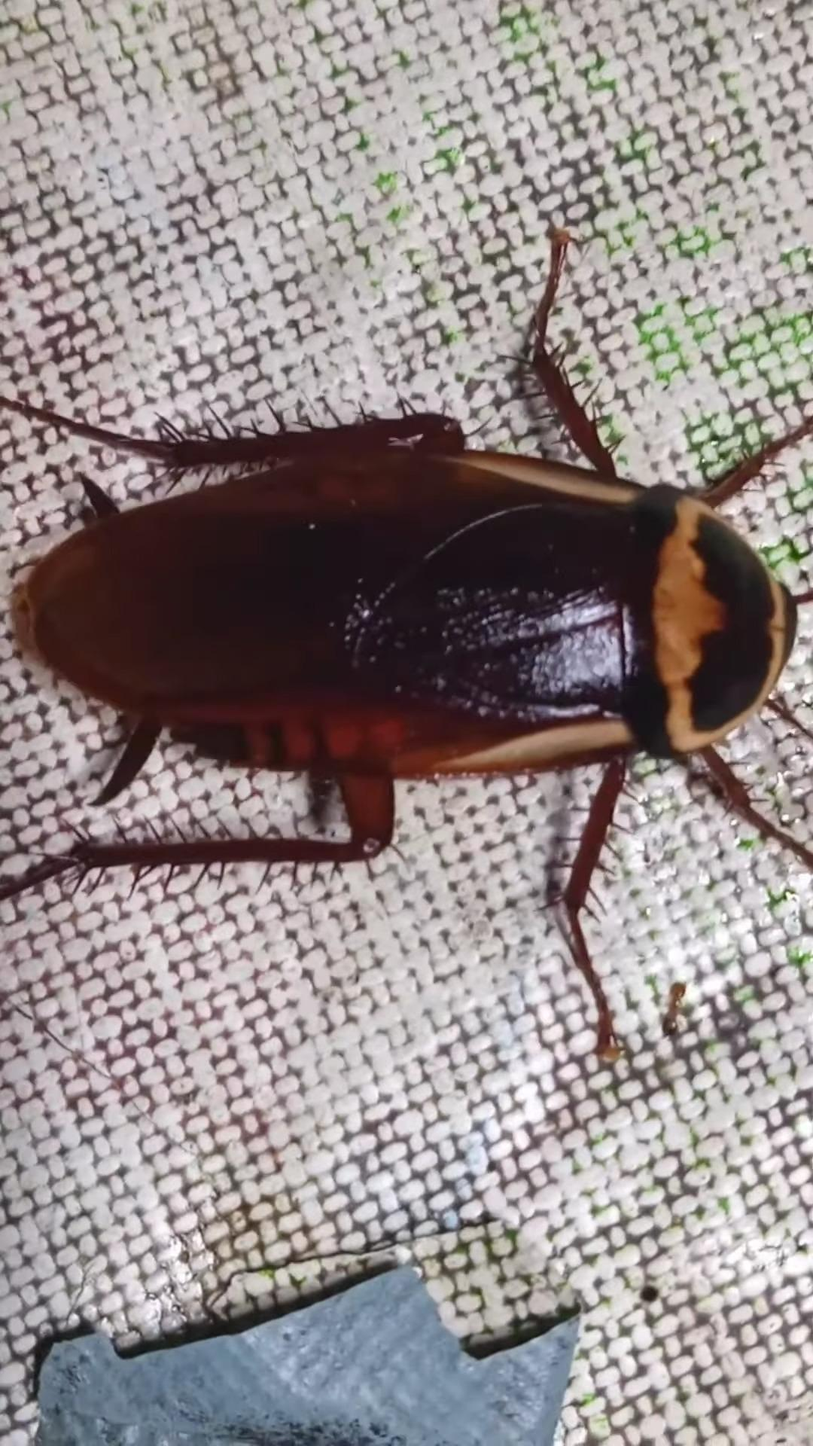cockroach: (0, 208, 813, 1076)
